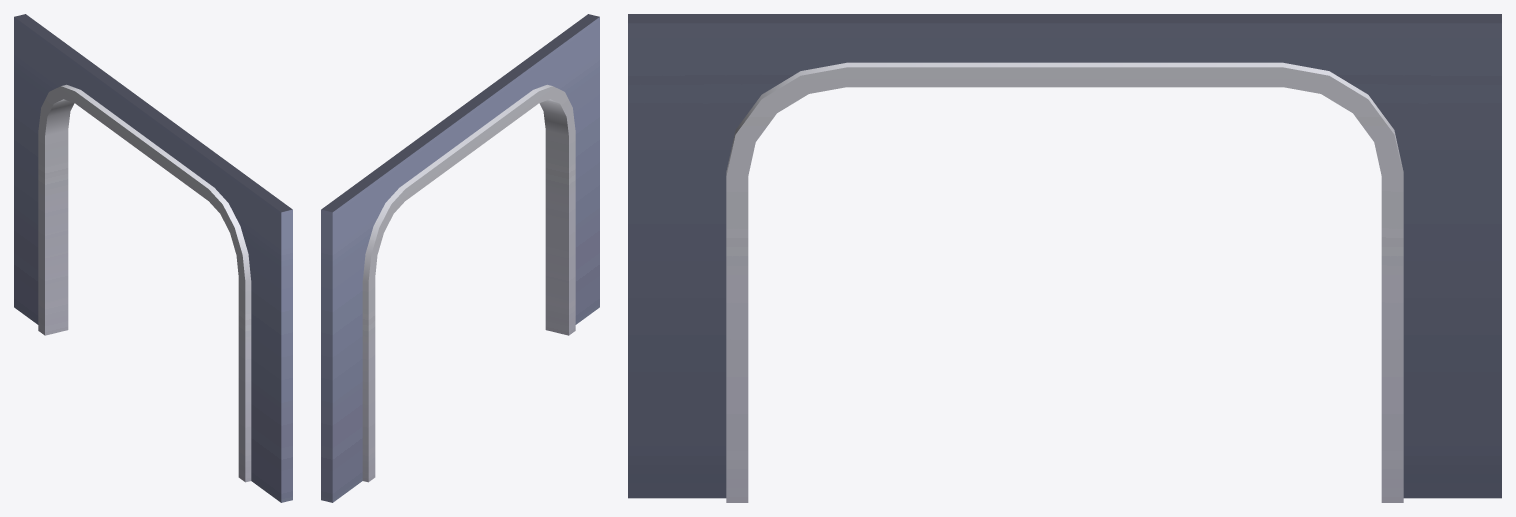
File: wall-doorway-wide-round.glb
3 views of the same model, side by side, from view 1: azimuth 30°, elevation 25°; view 2: azimuth 150°, elevation 25°; view 3: azimuth 270°, elevation 25° (orthographic). The views are drawn at different scales.
Parts seen in each view (by area): view 1: wall-doorway-wide-round; view 2: wall-doorway-wide-round; view 3: wall-doorway-wide-round.
Boxes of the visible parts, x1,y1,x2,y2 form: wall-doorway-wide-round: (14, 14, 292, 502); wall-doorway-wide-round: (321, 14, 599, 502); wall-doorway-wide-round: (628, 14, 1501, 502).
Size of the model in its own units: 0.2002 by 2.4 by 4.
Materials: 1 (1 with a texture image).
